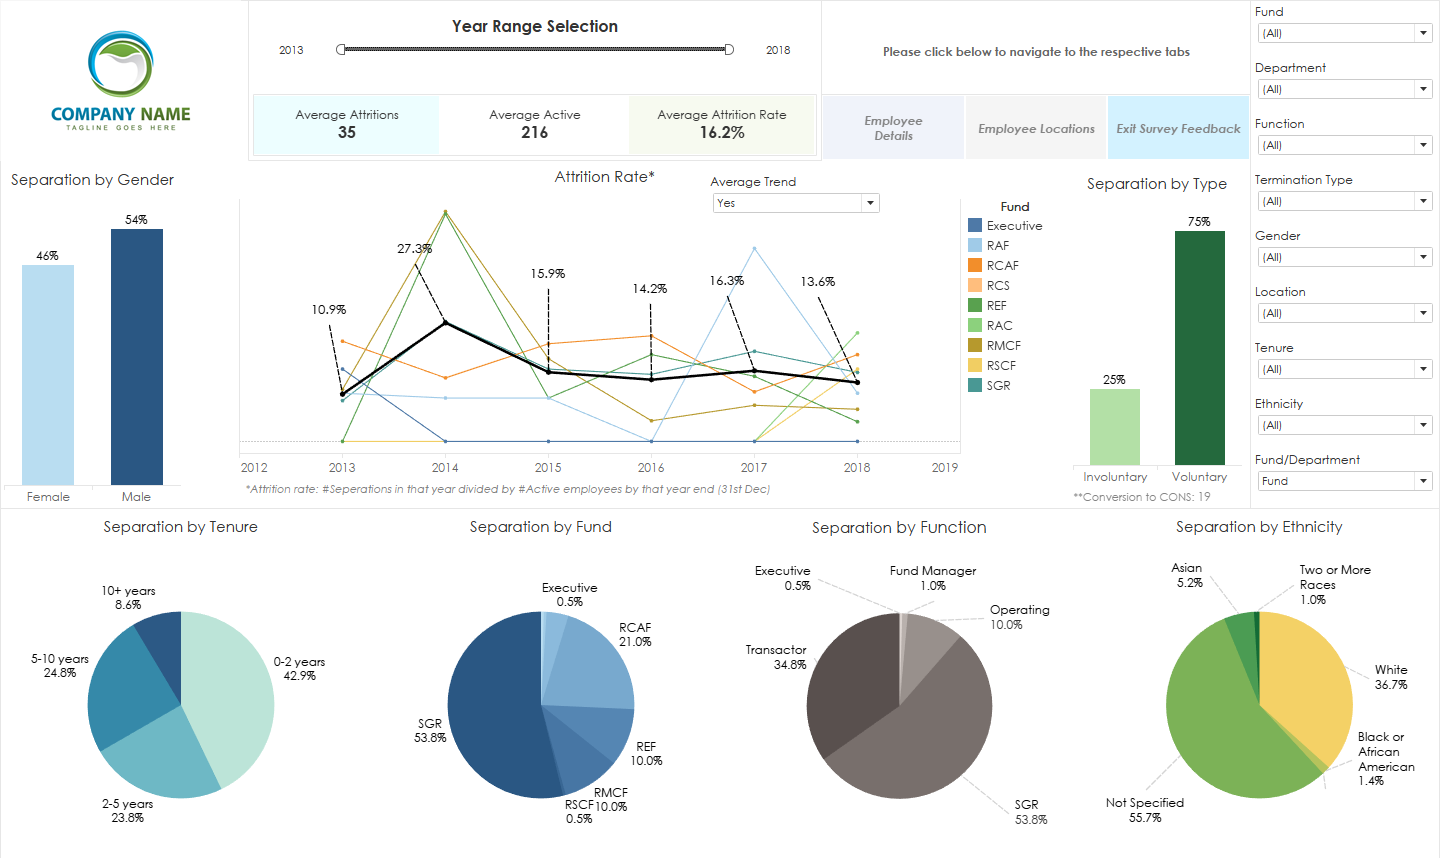

The dashboard page shown, as its layout file describes it:
{"tool":"tableau","page":{"name":"Assignment 1","canvas":[1000,800],"ordinal":0},"visuals":[{"type":"text","box":[8,8,242,126]},{"type":"text","box":[250,8,188,126]},{"type":"text","box":[438,8,170,126]},{"type":"worksheet","title":"Question 5 B","mark":"Pie","rows":["Number of Records","Number of Records"],"box":[608,8,281,126]},{"type":"filter","title":"Question 1","param":"[federated.0aonuuq1uxd0701dfhvfp1hzj5jx].[none:product:nk]","box":[889,8,103,89]},{"type":"legend","title":"Question 1","param":"[federated.0aonuuq1uxd0701dfhvfp1hzj5jx].[sum:Number of Records:qk]","box":[889,97,103,65]},{"type":"worksheet","title":"Question 1","mark":"Bar","rows":["Number of Records"],"cols":["delivered_week - Split 2"],"box":[8,134,540,176]},{"type":"worksheet","title":"Question 2","mark":"Line","rows":["product"],"cols":["delivered_week - Split 2"],"box":[548,134,341,176]},{"type":"legend","title":"Question 2","param":"[federated.0aonuuq1uxd0701dfhvfp1hzj5jx].[none:product:nk]","box":[889,162,103,66]},{"type":"legend","title":"Question 5 A","param":"[federated.0aonuuq1uxd0701dfhvfp1hzj5jx].[none:campaign:nk]","box":[889,228,103,126]},{"type":"worksheet","title":"Question 5 C","mark":"Automatic","rows":["customer_id"],"cols":["Calculation_1207527665949339652"],"box":[8,310,540,267]},{"type":"worksheet","title":"Question 4","mark":"Area","rows":["revenue","Number of Records"],"cols":["customer_id"],"box":[548,310,341,286]},{"type":"legend","title":"Question 4","param":"[federated.0aonuuq1uxd0701dfhvfp1hzj5jx].[:Measure Names]","box":[889,354,103,66]},{"type":"worksheet","title":"Question 3","mark":"Area","rows":["Number of Records","Number of Records"],"cols":["channel"],"box":[8,577,540,215]},{"type":"worksheet","title":"Question 5 A","mark":"Circle","box":[548,596,341,196]}]}

Visuals, with their boxes on the page's 1000x800 design canvas (x1, y1, x2, y2). These are canvas units, not pixel positions in the 1440x858 screenshot, which may show the page scaled, cropped or inside an application window:
text: {"left": 8, "top": 8, "right": 250, "bottom": 134}
text: {"left": 250, "top": 8, "right": 438, "bottom": 134}
text: {"left": 438, "top": 8, "right": 608, "bottom": 134}
"Question 5 B" worksheet (Pie marks): {"left": 608, "top": 8, "right": 889, "bottom": 134}
"Question 1" filter: {"left": 889, "top": 8, "right": 992, "bottom": 97}
"Question 1" legend: {"left": 889, "top": 97, "right": 992, "bottom": 162}
"Question 1" worksheet (Bar marks): {"left": 8, "top": 134, "right": 548, "bottom": 310}
"Question 2" worksheet (Line marks): {"left": 548, "top": 134, "right": 889, "bottom": 310}
"Question 2" legend: {"left": 889, "top": 162, "right": 992, "bottom": 228}
"Question 5 A" legend: {"left": 889, "top": 228, "right": 992, "bottom": 354}
"Question 5 C" worksheet: {"left": 8, "top": 310, "right": 548, "bottom": 577}
"Question 4" worksheet (Area marks): {"left": 548, "top": 310, "right": 889, "bottom": 596}
"Question 4" legend: {"left": 889, "top": 354, "right": 992, "bottom": 420}
"Question 3" worksheet (Area marks): {"left": 8, "top": 577, "right": 548, "bottom": 792}
"Question 5 A" worksheet (Circle marks): {"left": 548, "top": 596, "right": 889, "bottom": 792}
